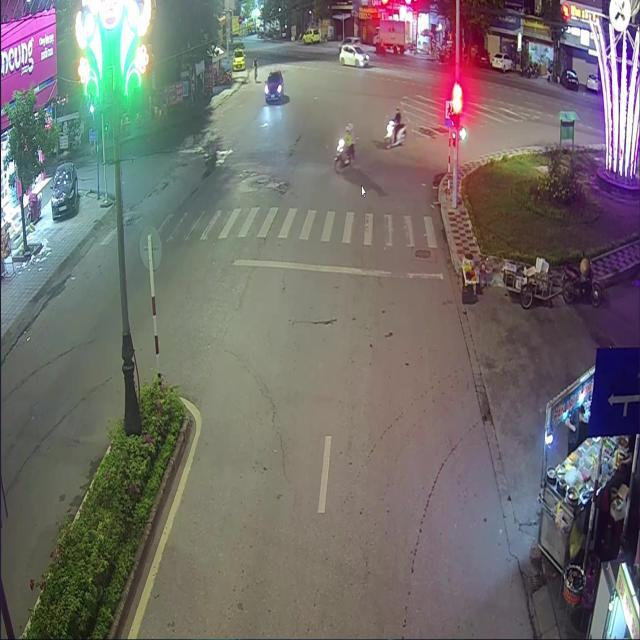motobike: (334, 138, 353, 171), (384, 121, 405, 147)
red_light: (452, 97, 459, 127)
stop_line: (231, 258, 442, 280)
